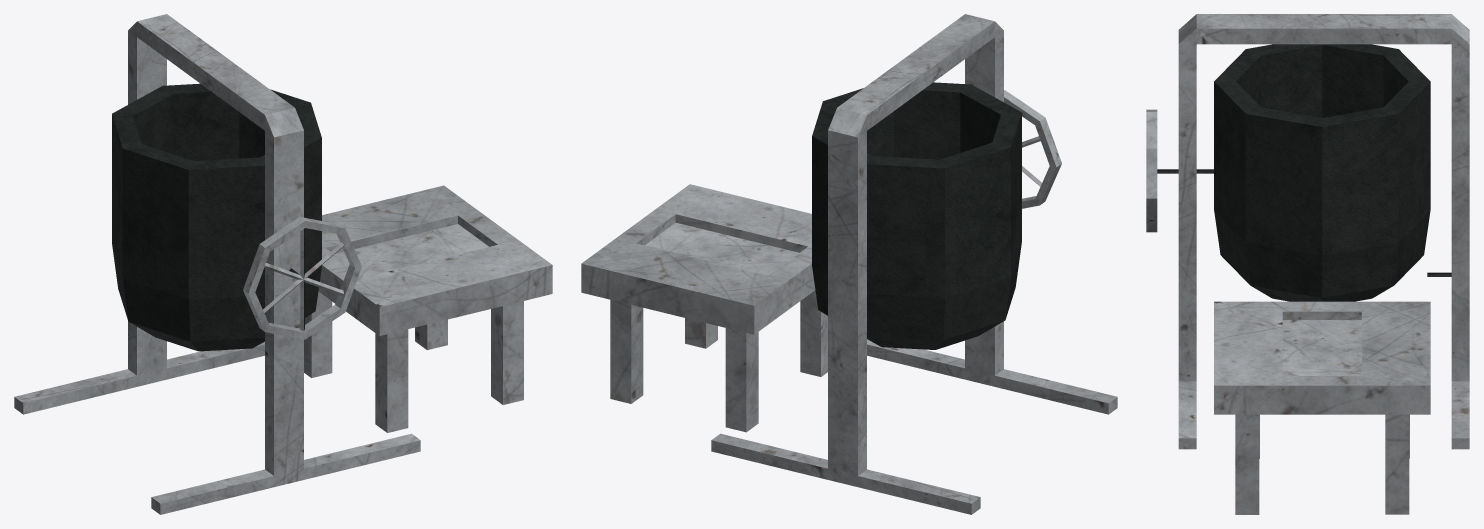
File: foundry.fbx
3 views of the same model, side by side, from view 1: azimuth 30°, elevation 25°; view 2: azimuth 150°, elevation 25°; view 3: azimuth 270°, elevation 25° (orthographic).
Visible parts, largest first — view 1: Cylinder.001, Cube, Cylinder; view 2: Cylinder.001, Cube, Cylinder; view 3: Cylinder.001, Cube, Cylinder.
Boxes of the visible parts, x1,y1,x2,y2 form: Cylinder.001: [112, 83, 361, 351]; Cube: [304, 185, 552, 432]; Cylinder: [14, 14, 420, 514]; Cylinder.001: [812, 82, 1061, 349]; Cube: [581, 184, 827, 432]; Cylinder: [711, 14, 1117, 514]; Cylinder.001: [1146, 44, 1430, 301]; Cube: [1214, 301, 1430, 514]; Cylinder: [1178, 14, 1469, 449].
Bounding box in the file's own units: 436 × 373 × 299.
Materials: 2 (2 with a texture image).
